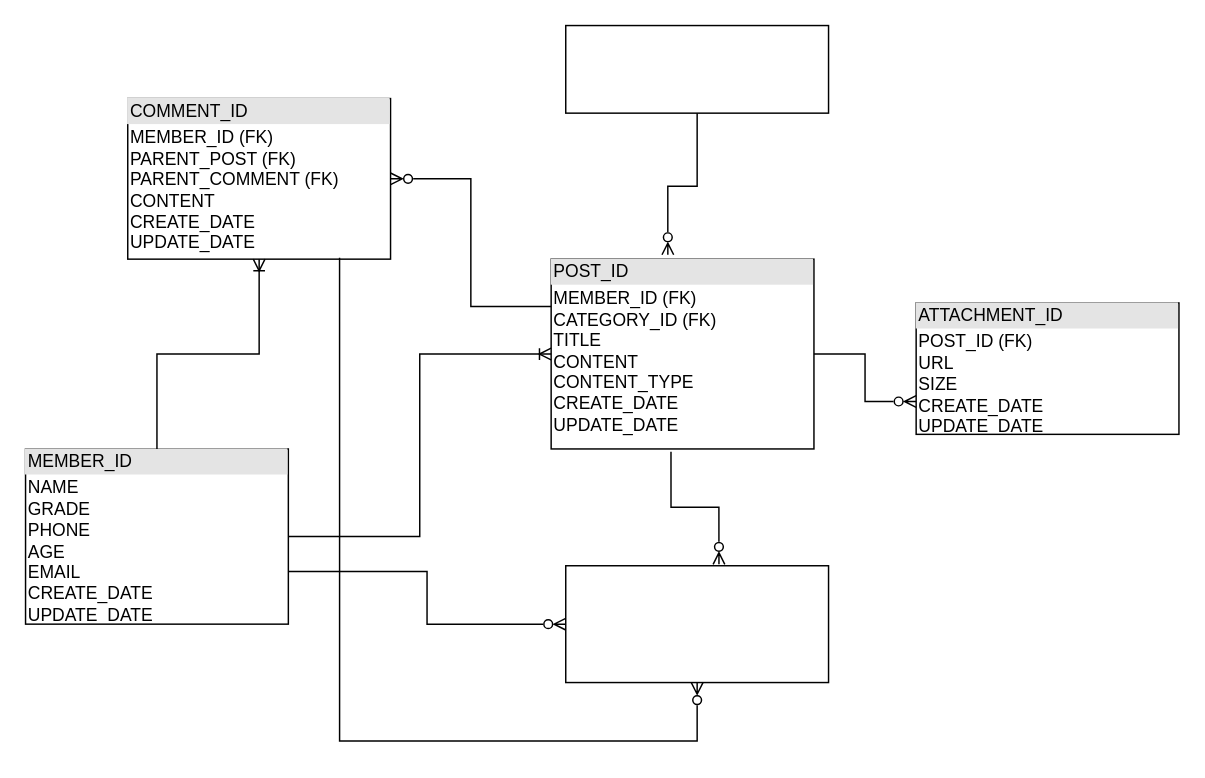
This 1205x778 diagram has some shape labels left out. Here are the shapes that lost their labels. From the top down, the box of each, then its label:
(564, 24, 829, 113): CATEGORY_ID MEMBER_ID (FK) NAME DESCRIPTION
(564, 564, 829, 683): LIKE_ID MEMBER_ID (FK) DTYPE POST (FK) COMMENT (FK)
